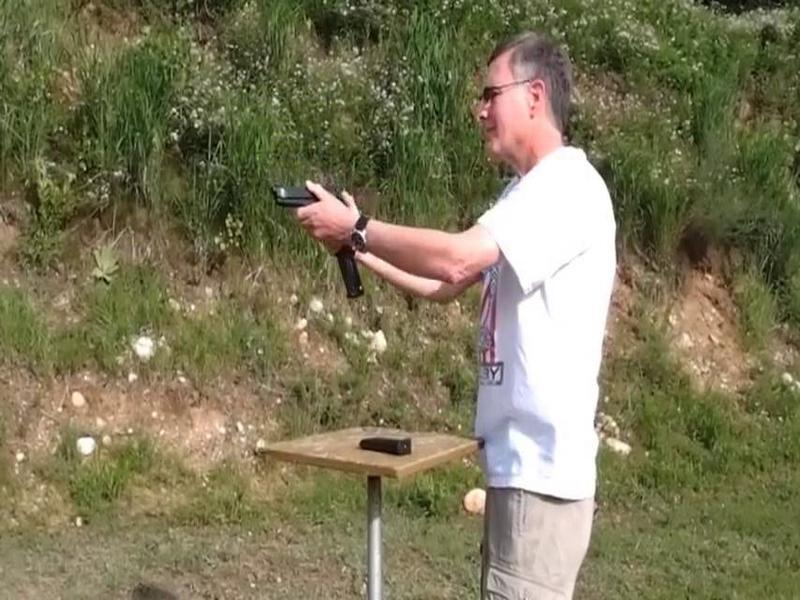Pistola: (273, 181, 367, 262)
